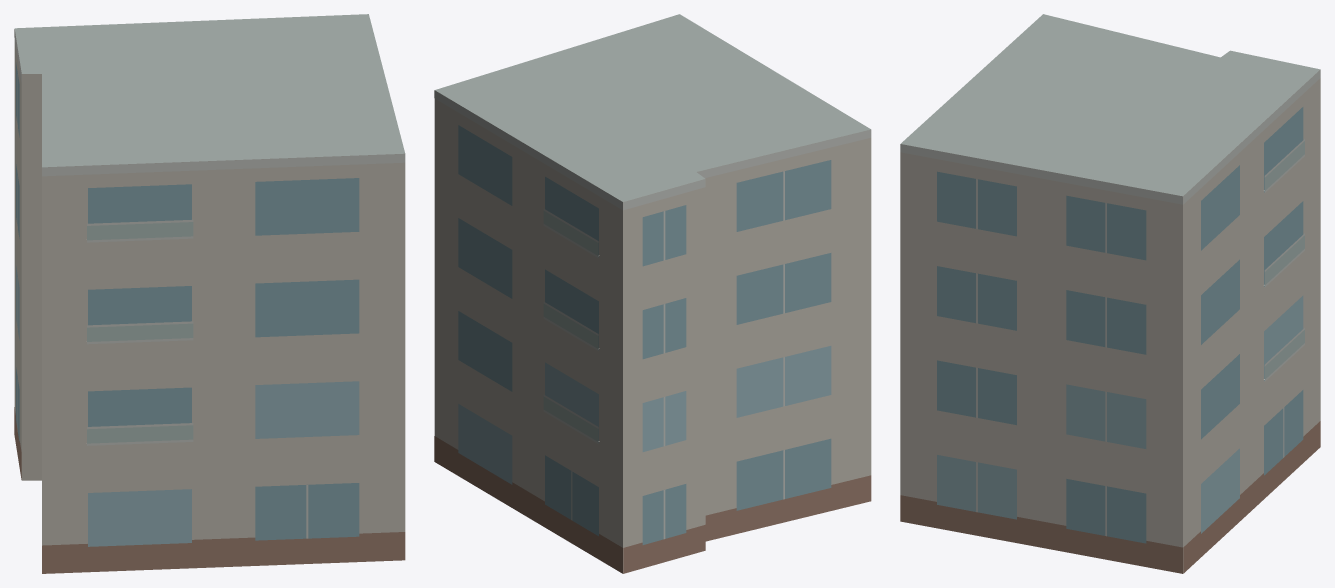
Rendered from survey-upis-32723715.glb.
3 views of the same model, side by side, from view 1: azimuth 30°, elevation 25°; view 2: azimuth 150°, elevation 25°; view 3: azimuth 270°, elevation 25° (orthographic). The views are drawn at different scales.
Parts seen in each view (by area): view 1: survey-upis-32723715.tmp; view 2: survey-upis-32723715.tmp; view 3: survey-upis-32723715.tmp.
Part boxes in pixels (bbox=[...]): survey-upis-32723715.tmp: bbox=[14, 14, 405, 573]; survey-upis-32723715.tmp: bbox=[434, 14, 871, 573]; survey-upis-32723715.tmp: bbox=[900, 14, 1320, 573].
Bounding box in the file's own units: 11.4 × 11 × 11.11.
